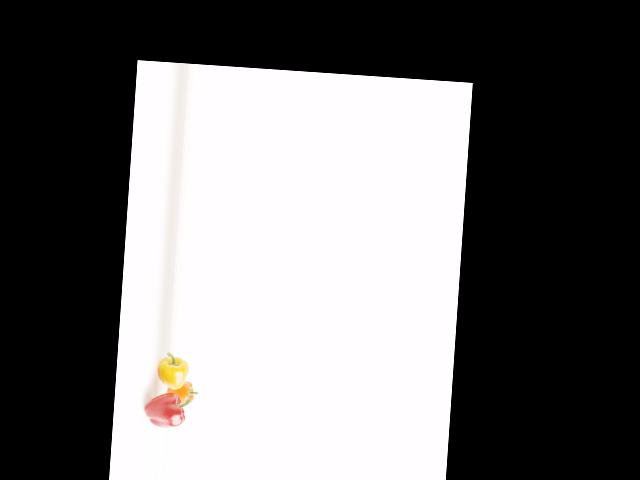bell_pepper: (139, 389, 195, 430)
